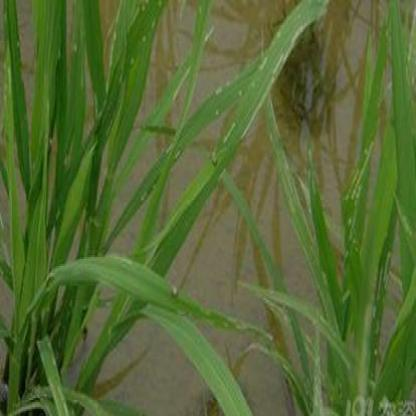rice-bug: (210, 148, 220, 164), (172, 286, 180, 299)
